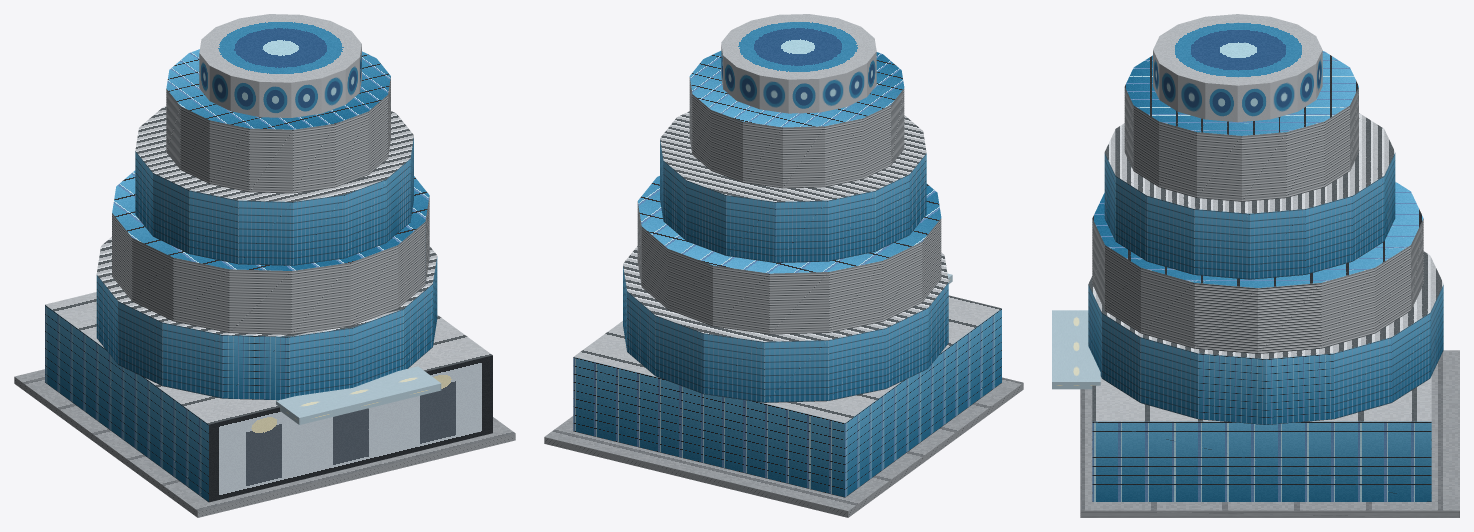
Rendered from landmark_city_hall.glb.
3 views of the same model, side by side, from view 1: azimuth 30°, elevation 25°; view 2: azimuth 150°, elevation 25°; view 3: azimuth 270°, elevation 25° (orthographic). The views are drawn at different scales.
Parts seen in each view (by area): view 1: Landmark_City_Hall; view 2: Landmark_City_Hall; view 3: Landmark_City_Hall.
Part boxes in pixels (box(x1,y1,x2,y2)): Landmark_City_Hall: box(14, 14, 515, 517); Landmark_City_Hall: box(544, 14, 1023, 517); Landmark_City_Hall: box(1052, 14, 1459, 517).
Size of the model in its own units: 9.4 by 10.6 by 10.1.
1 material, 1 textured.
